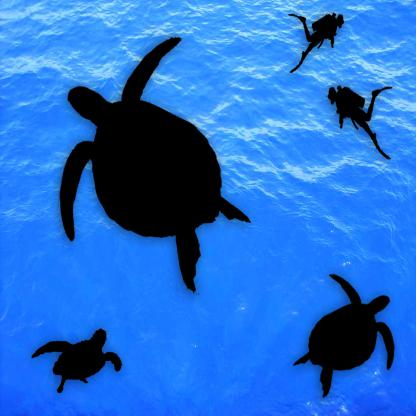turtle: (66, 82, 108, 123), (368, 288, 391, 316), (90, 323, 108, 350)
